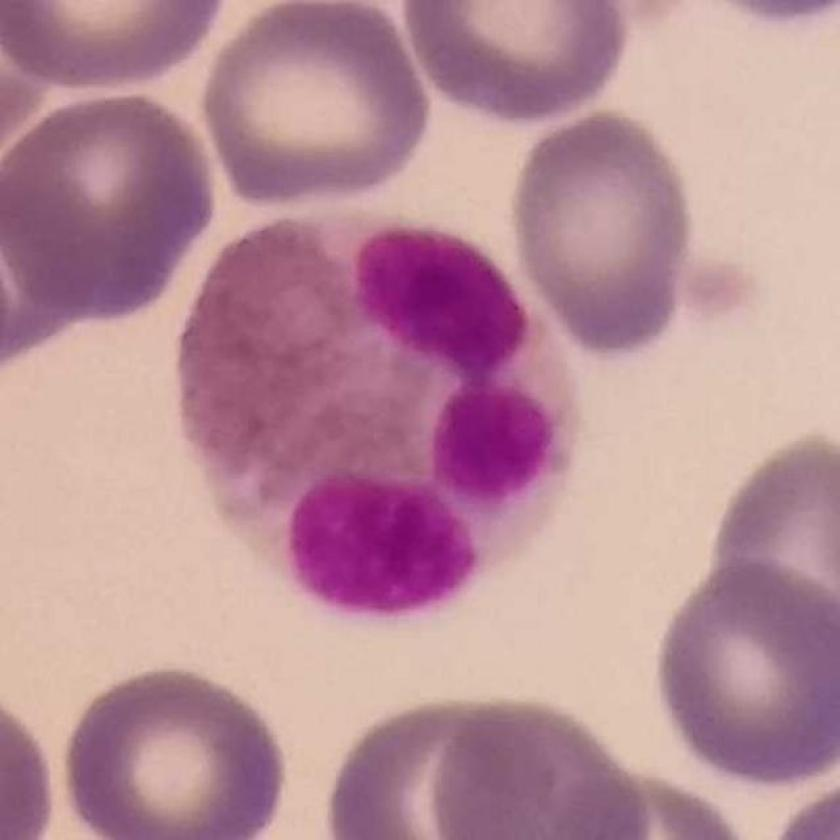eosinophil: (169, 201, 589, 617)
